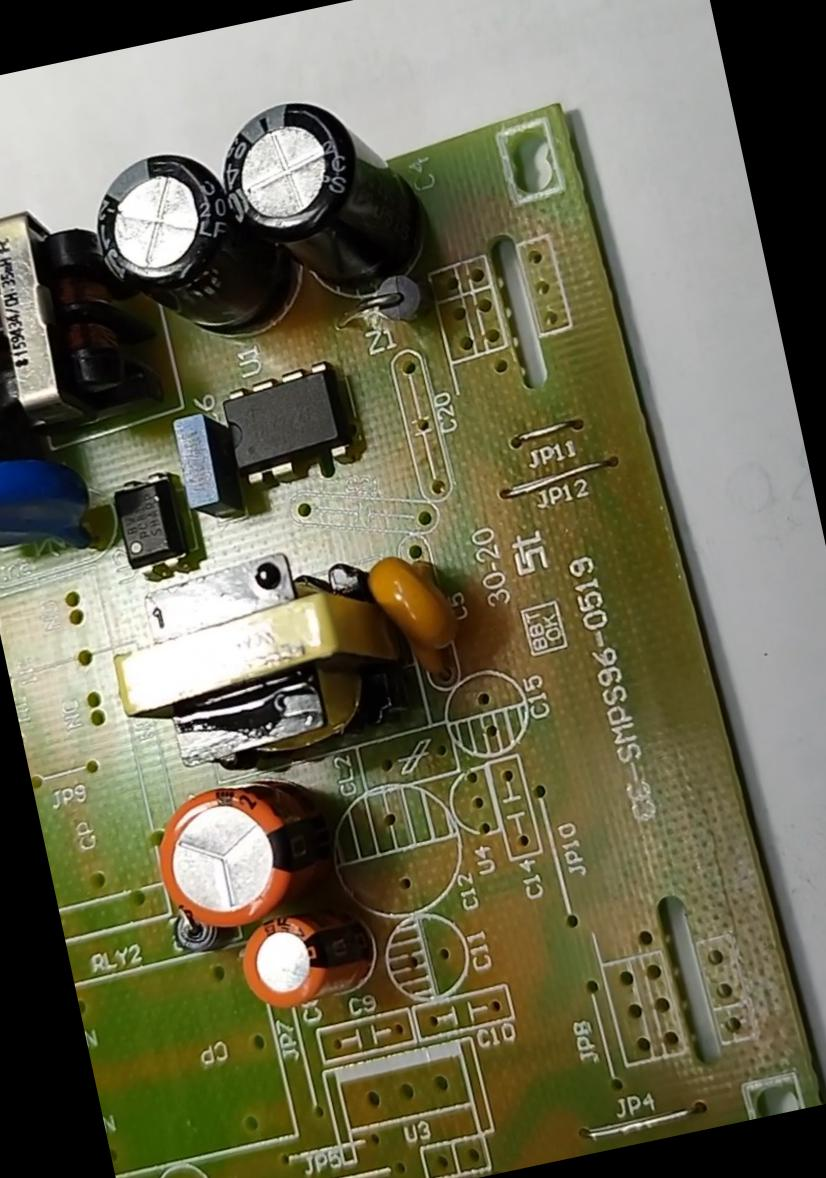Cap1: (144, 771, 329, 932)
Cap2: (234, 899, 376, 1012)
Cap3: (81, 145, 259, 344)
Cap4: (216, 75, 439, 314)
MOSFET: (207, 359, 353, 488)
Mov: (0, 440, 100, 567)
Transformer: (93, 537, 413, 805), (0, 188, 150, 448)
